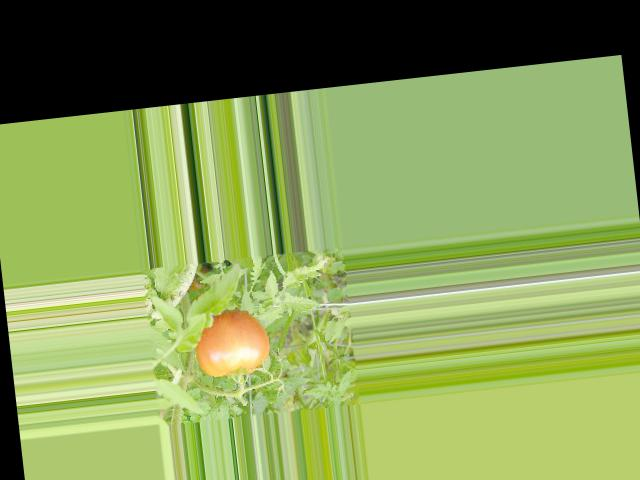tomato: (193, 307, 272, 379)
